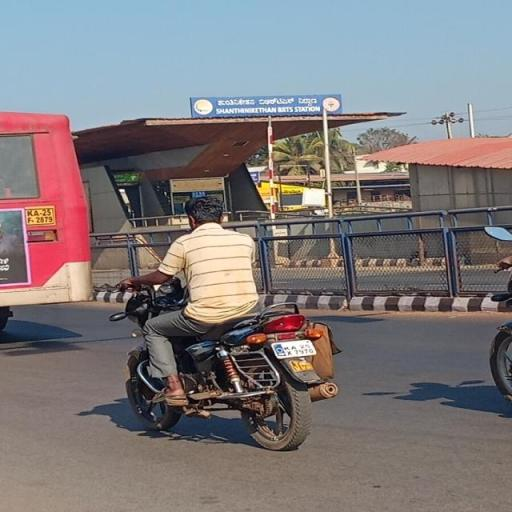bike: (106, 196, 350, 418)
numberplate: (268, 335, 315, 360)
withouthelmet: (186, 198, 222, 227)
